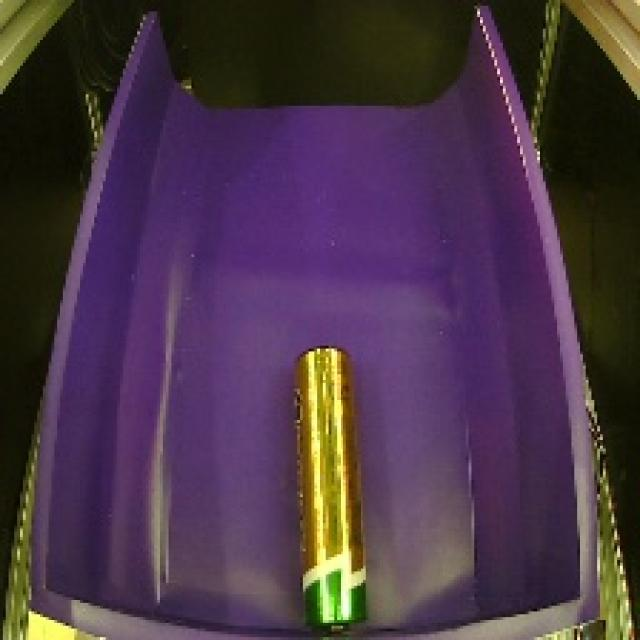battery: (275, 336, 382, 638)
